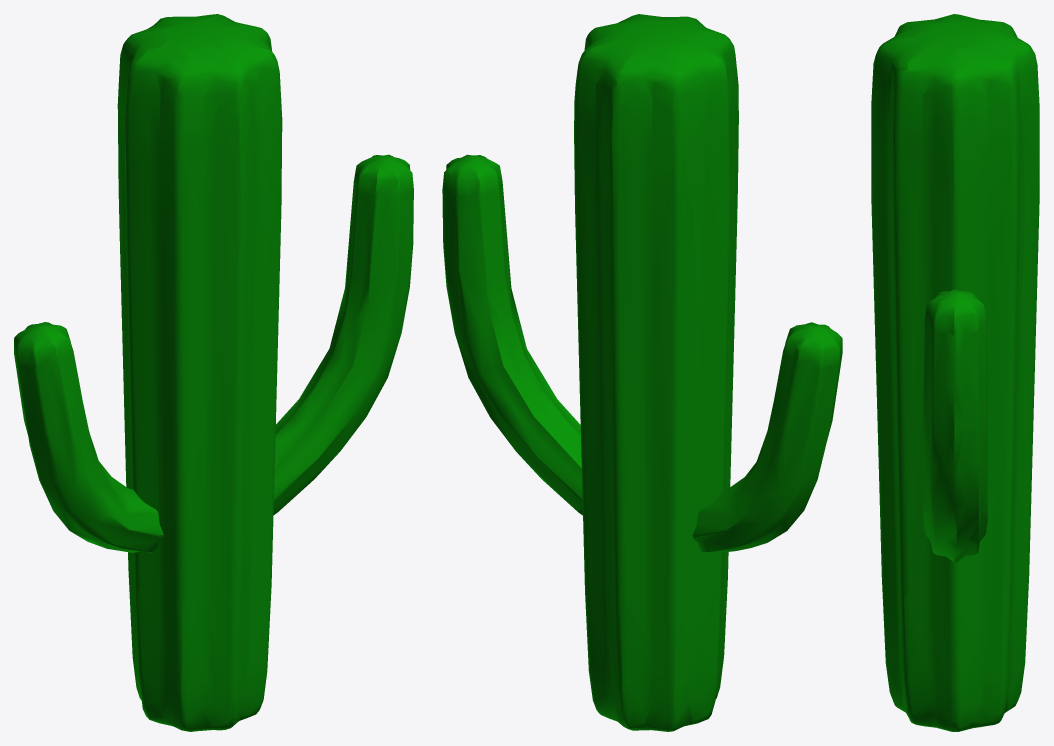
The model's file is cactus1.fbx.
The picture shows the model from 3 angles, left to right: view 1: azimuth 30°, elevation 25°; view 2: azimuth 150°, elevation 25°; view 3: azimuth 270°, elevation 25°; orthographic projection.
Visible parts, largest first — view 1: Cactus_lowpoly:Mesh; view 2: Cactus_lowpoly:Mesh; view 3: Cactus_lowpoly:Mesh.
Boxes of the visible parts, x1=… form: Cactus_lowpoly:Mesh: x1=14, y1=14, x2=413, y2=731; Cactus_lowpoly:Mesh: x1=442, y1=14, x2=842, y2=731; Cactus_lowpoly:Mesh: x1=871, y1=14, x2=1039, y2=731.
Bounding box in the file's own units: 21.15 × 35.26 × 7.85.
